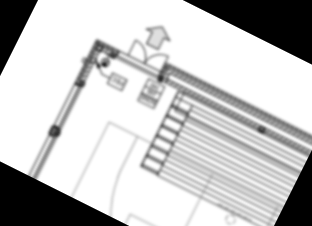double door: (126, 37, 170, 73)
wall: (164, 66, 312, 147), (163, 76, 312, 156), (77, 44, 104, 87)
